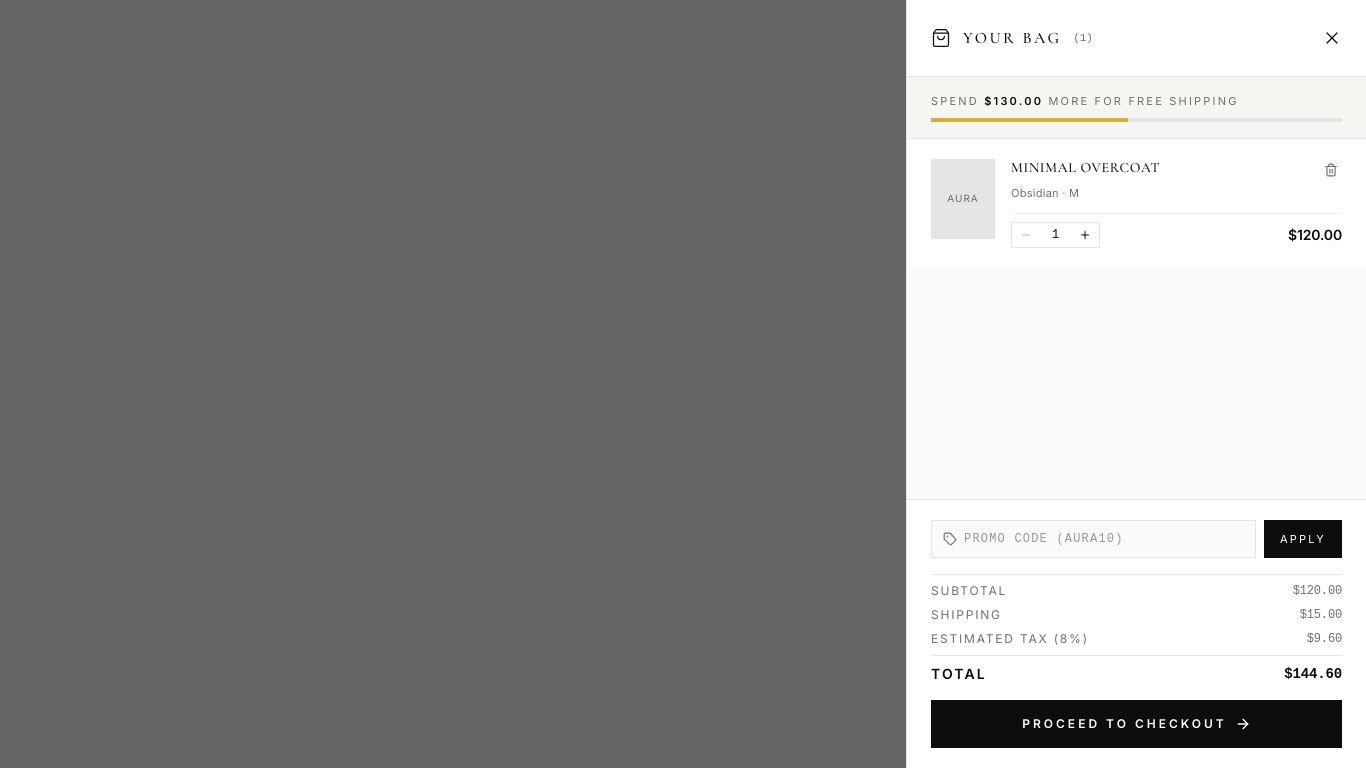
Test: CartDrawer › shows error for invalid promo code
Type "BADCODE" into the field with test id "promo-input" at (1094, 539), box left=931, top=520, right=1256, bottom=558
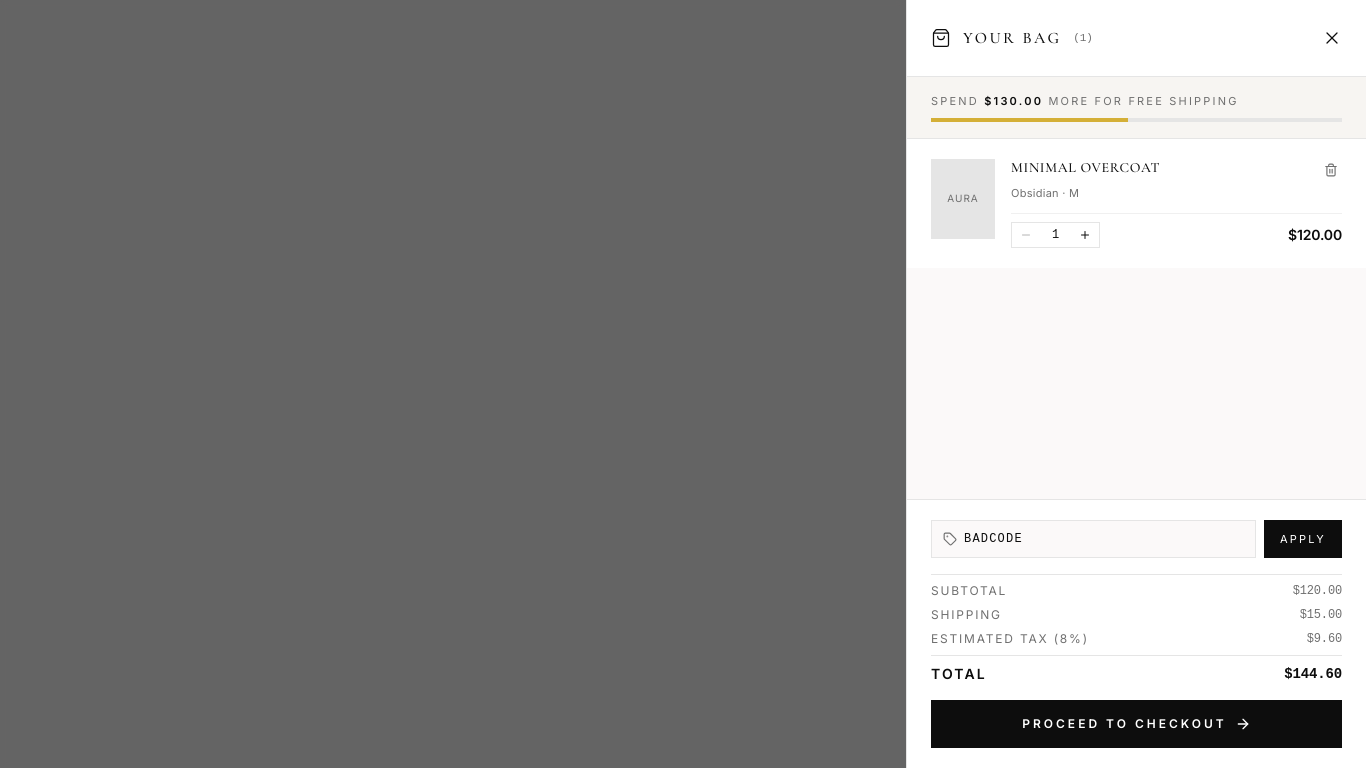
Click the button with test id "promo-apply-btn" at (1303, 539), box left=1264, top=520, right=1342, bottom=558
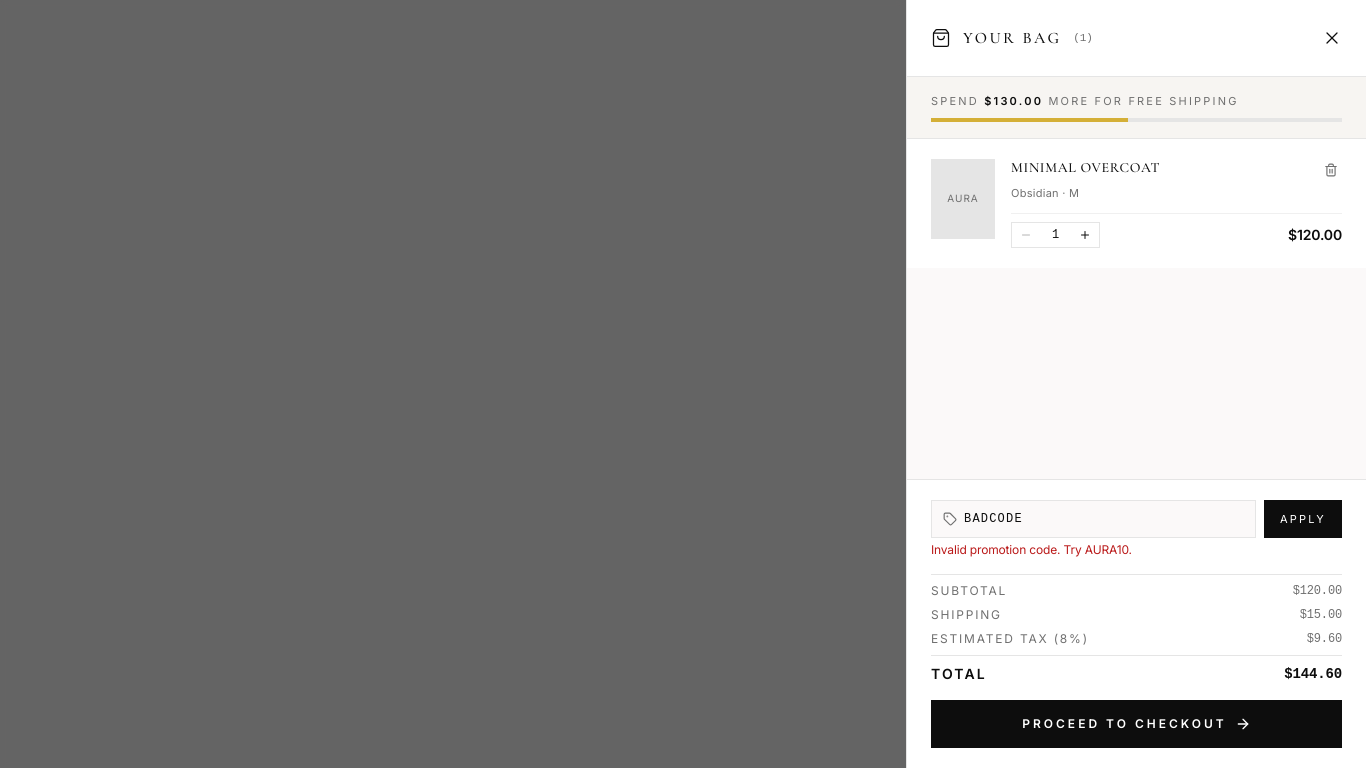
Check: the text "Invalid promotion code. Try AURA10." is shown, box left=931, top=542, right=1132, bottom=557
